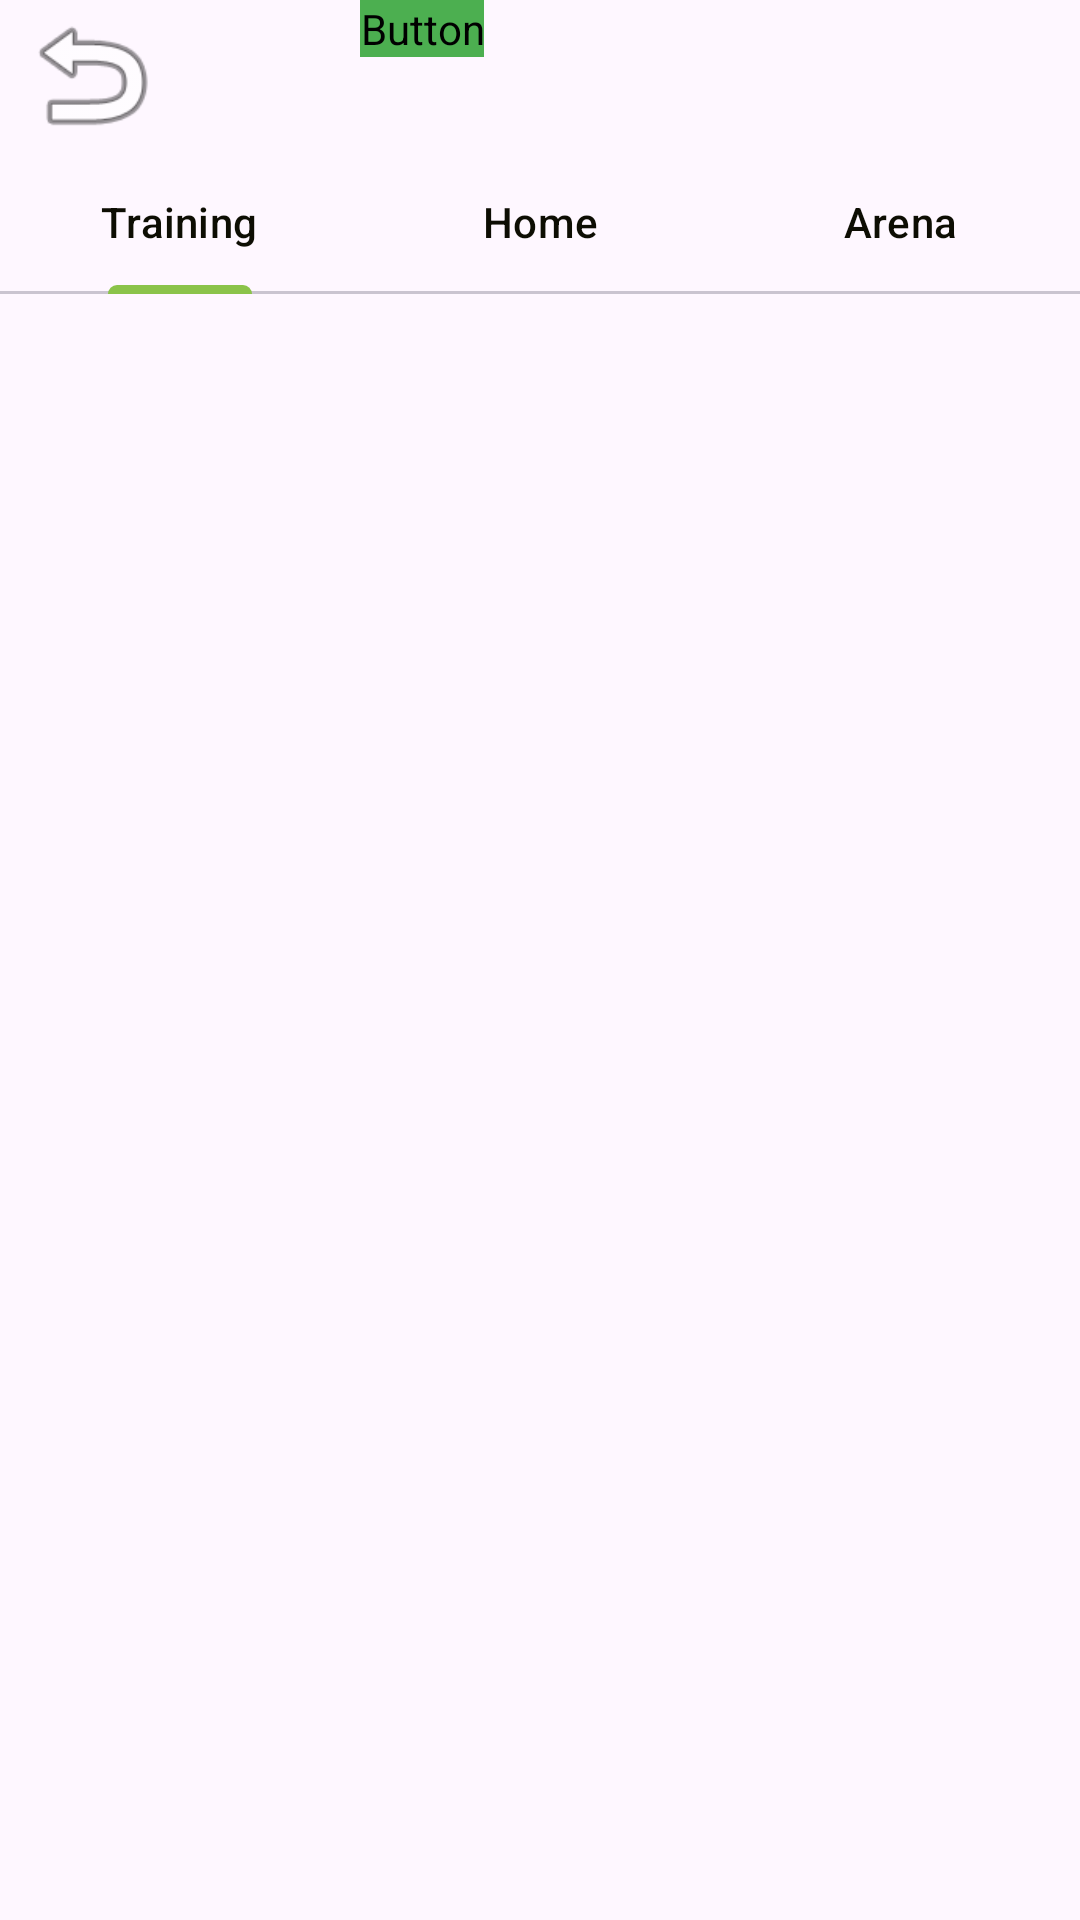

Named icons in this screenshot (1080×1920) and their bounding boxes, (left=x1, top=y1, right=x2, bottom=y2):
revert: (left=39, top=27, right=148, bottom=125)
